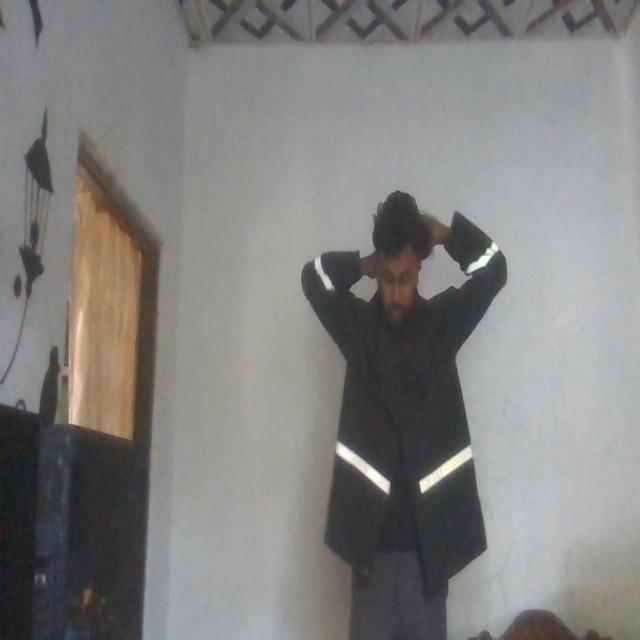Jacket_Wearer: (292, 221, 508, 575)
Person: (305, 162, 503, 640)
